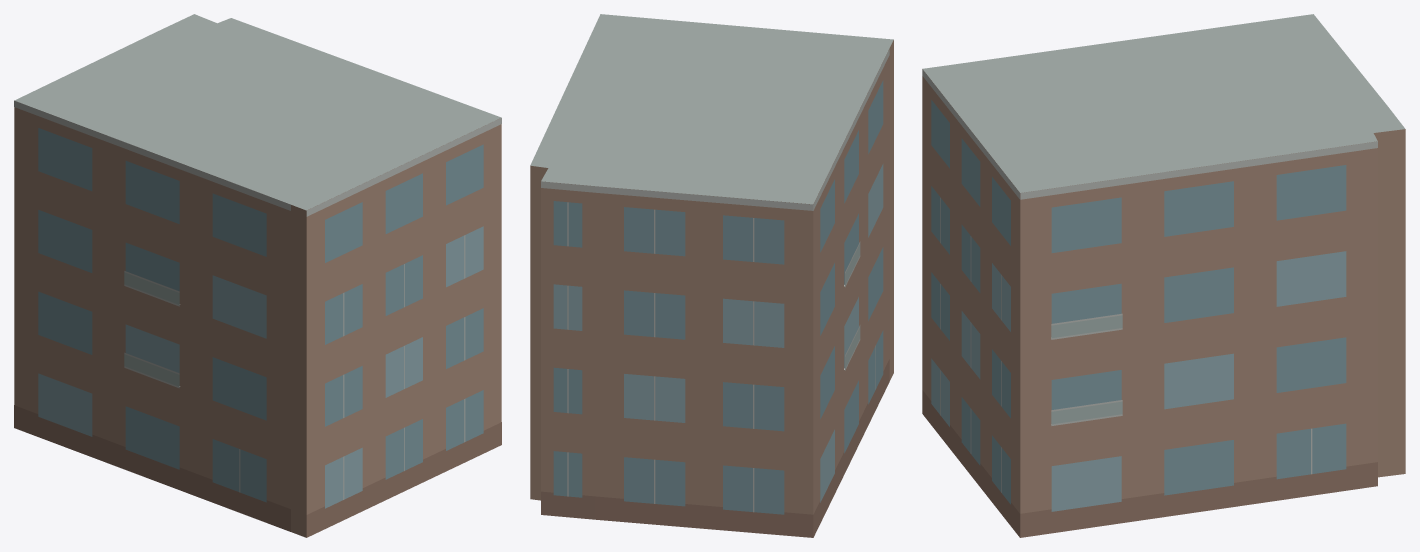
Rendered from survey-upis-32512215.glb.
The picture shows the model from 3 angles, left to right: view 1: azimuth 30°, elevation 25°; view 2: azimuth 150°, elevation 25°; view 3: azimuth 270°, elevation 25°; orthographic projection. The views are drawn at different scales.
Parts seen in each view (by area): view 1: survey-upis-32512215.tmp; view 2: survey-upis-32512215.tmp; view 3: survey-upis-32512215.tmp.
Boxes of the visible parts, x1,y1,x2,y2 form: survey-upis-32512215.tmp: [14, 14, 501, 537]; survey-upis-32512215.tmp: [530, 14, 893, 537]; survey-upis-32512215.tmp: [922, 14, 1405, 537].
Size of the model in its own units: 13.81 by 12.4 by 15.76.
